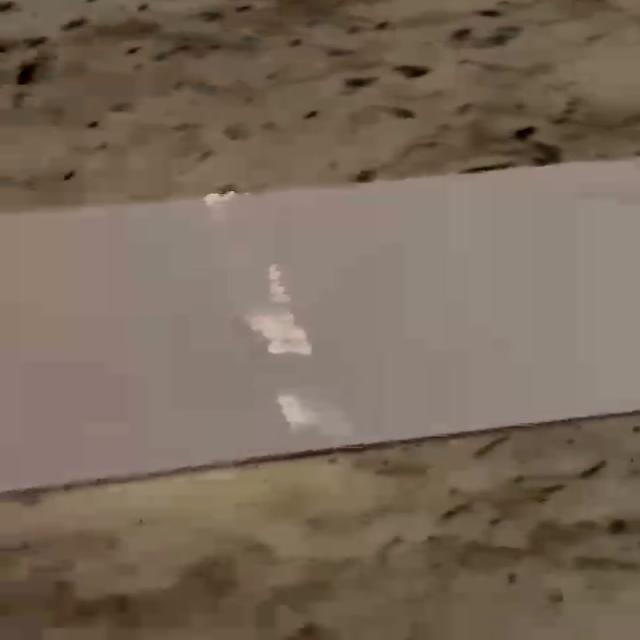road: (3, 160, 637, 490)
